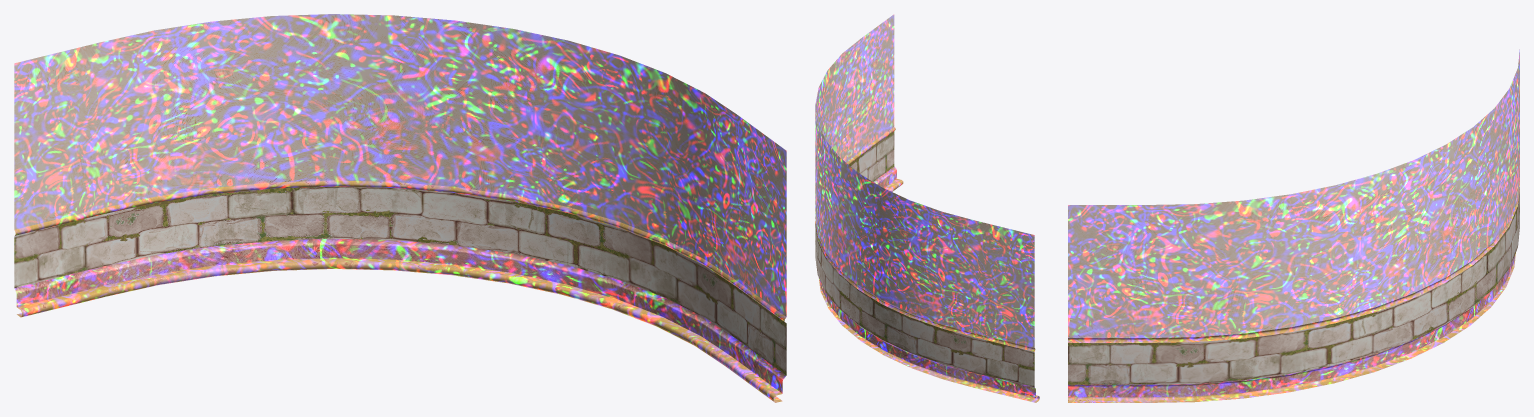
File: wall_corner_small_inverse_SM.fbx
The picture shows the model from 3 angles, left to right: view 1: azimuth 30°, elevation 25°; view 2: azimuth 150°, elevation 25°; view 3: azimuth 270°, elevation 25°; orthographic projection. The views are drawn at different scales.
Parts seen in each view (by area): view 1: wall_corner_small_inverse_SM_LOD0; view 2: wall_corner_small_inverse_SM_LOD0; view 3: wall_corner_small_inverse_SM_LOD0.
Part boxes in pixels (box(x1,y1,x2,y2)): wall_corner_small_inverse_SM_LOD0: box(14, 14, 786, 402); wall_corner_small_inverse_SM_LOD0: box(815, 14, 1039, 402); wall_corner_small_inverse_SM_LOD0: box(1068, 49, 1519, 402).
Size of the model in its own units: 1056 by 1056 by 514.
4 materials, 4 textured.
